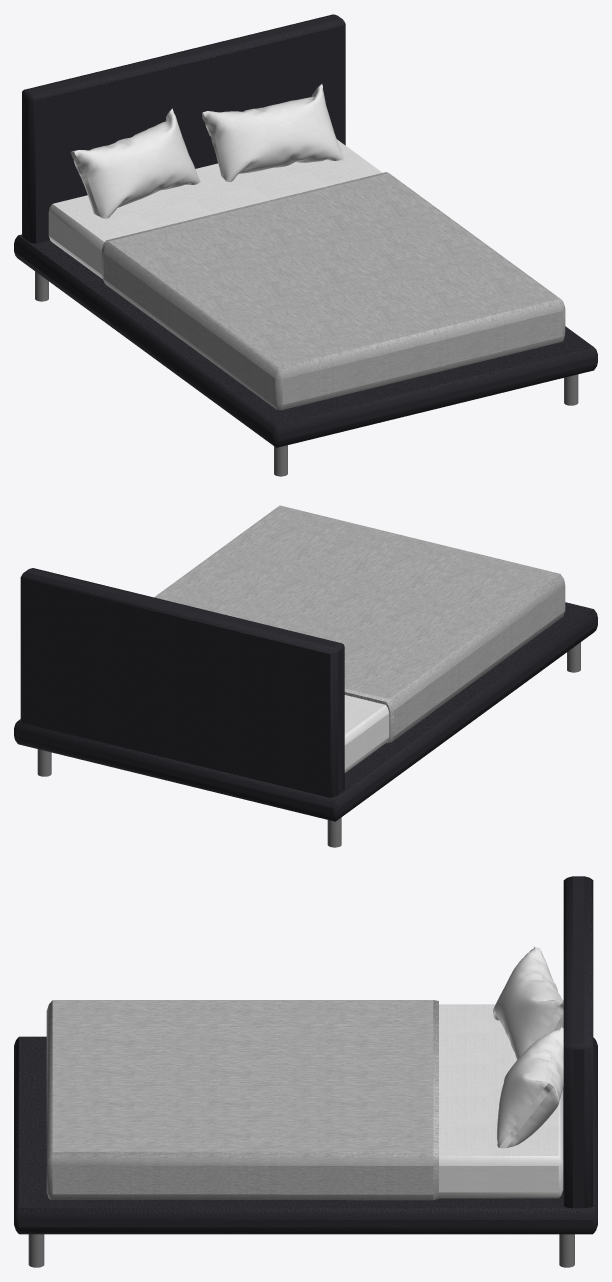
The model's file is Bed.FBX.
The picture shows the model from 3 angles, top to bottom: view 1: azimuth 30°, elevation 25°; view 2: azimuth 150°, elevation 25°; view 3: azimuth 270°, elevation 25°; orthographic projection. The views are drawn at different scales.
Parts seen in each view (by area): view 1: Bed; view 2: Bed; view 3: Bed.
Part boxes in pixels (left/top/right/bottom): Bed: left=14, top=14, right=597, bottom=476; Bed: left=14, top=505, right=597, bottom=847; Bed: left=14, top=876, right=597, bottom=1267.
Size of the model in its own units: 234 by 140 by 327.
Materials: 4 (4 with a texture image).
